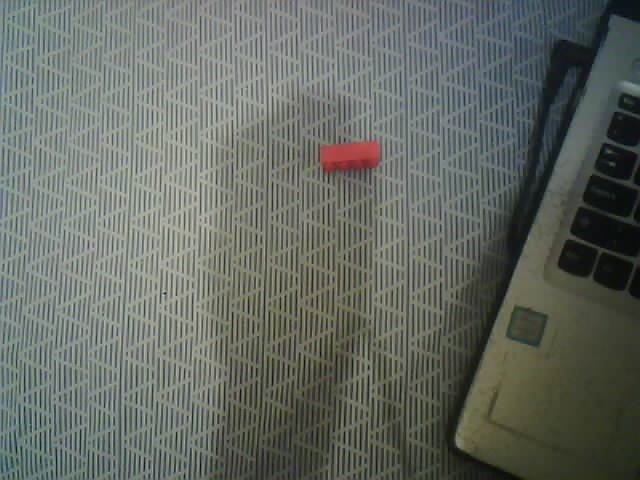lego: (319, 141, 381, 171)
